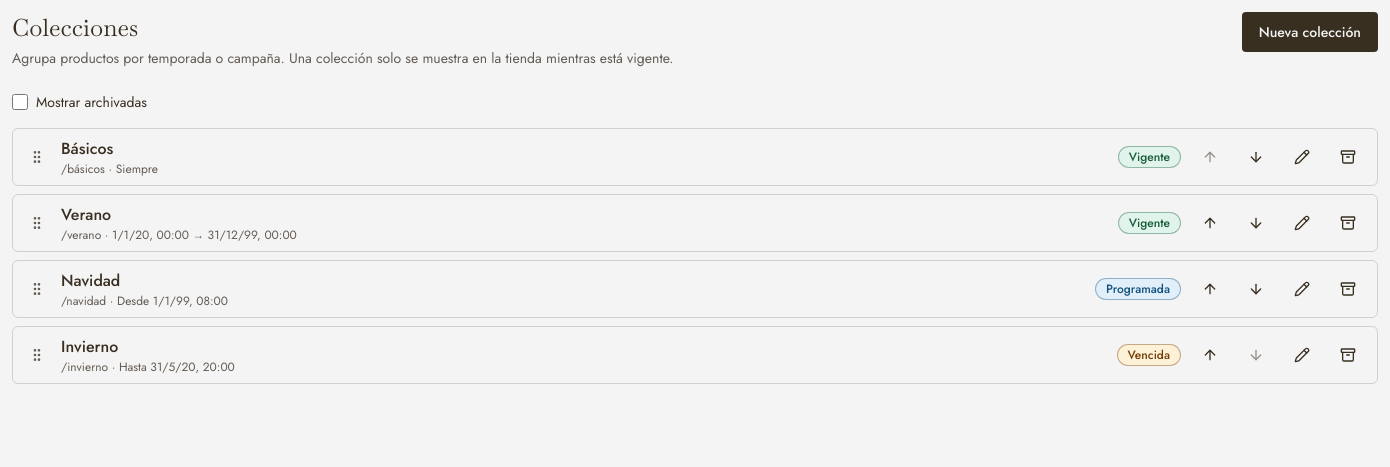
Test case: CollectionsPage · lista › las archivadas se ocultan salvo que se pidan, y se marcan 'Archivada'
This screenshot has width=1390, height=467.
Check: the text "Básicos" is shown, box [61,137,113,160]
Check: the text "Outlet" is not shown
Click the checkbox labelled "Mostrar archivadas".
click(20, 102)  # box [12,94,28,110]
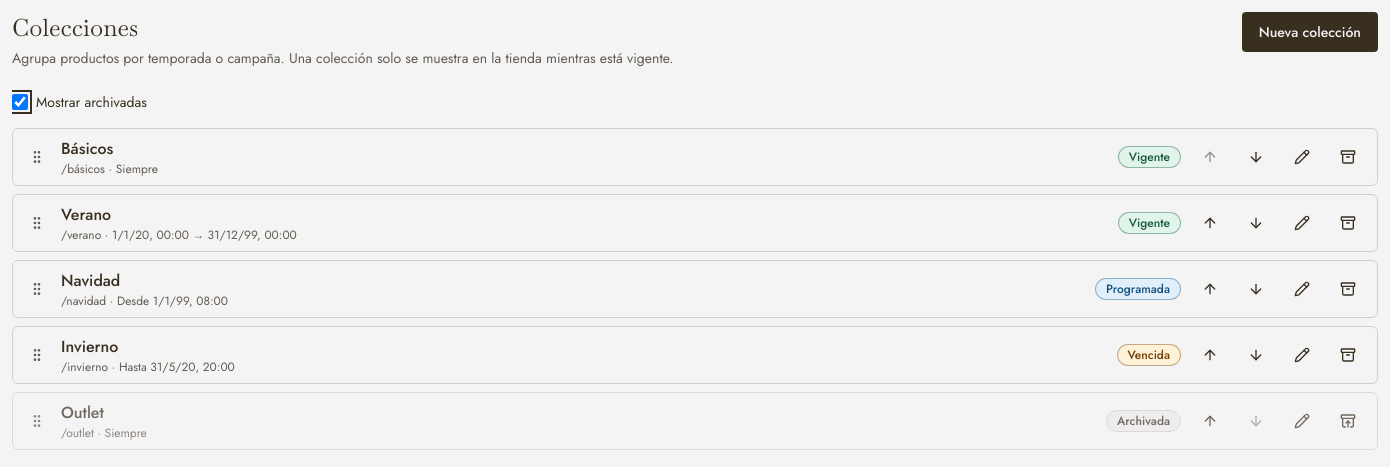
Check: the text "Archivada" is shown, box [1106,410,1181,432]
